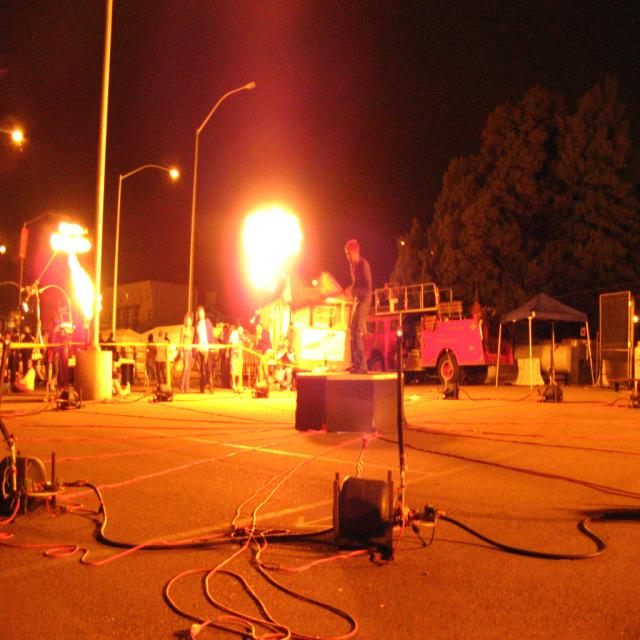fire: (53, 158, 144, 393), (221, 184, 334, 360)
